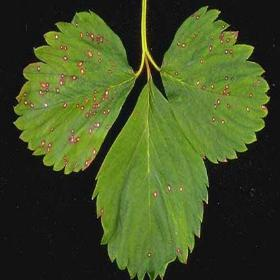Leaf Spot: (92, 73, 209, 279), (12, 9, 136, 175), (160, 6, 272, 163)
